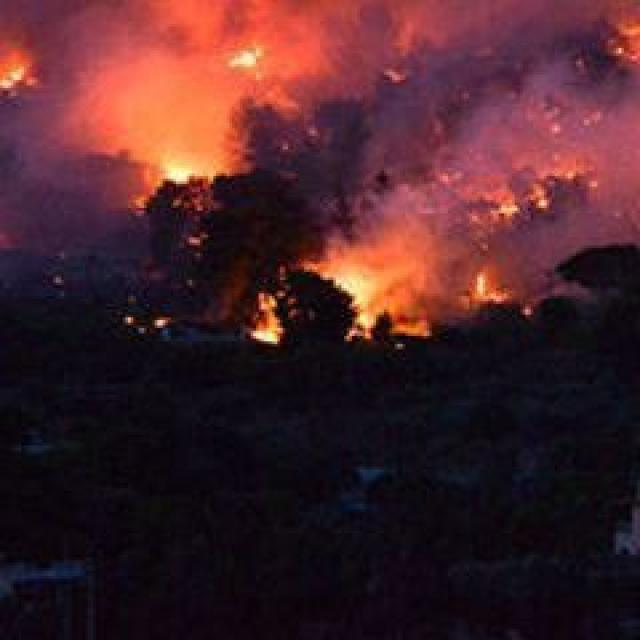Smoke: (31, 0, 607, 253)
